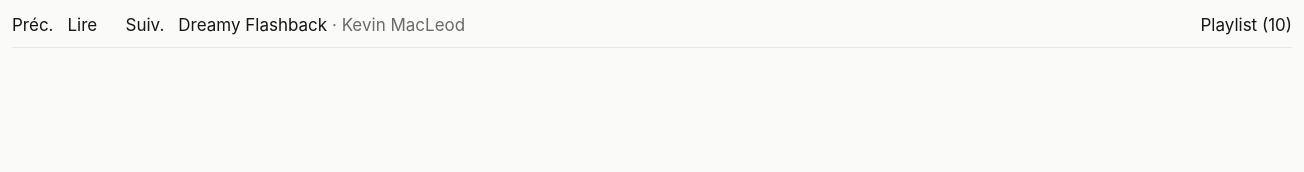
MusicPlayer › met en pause sans recharger la source
This screenshot has width=1304, height=172.
Click the button "Lire" at (90, 26), box [68,12,112,39]
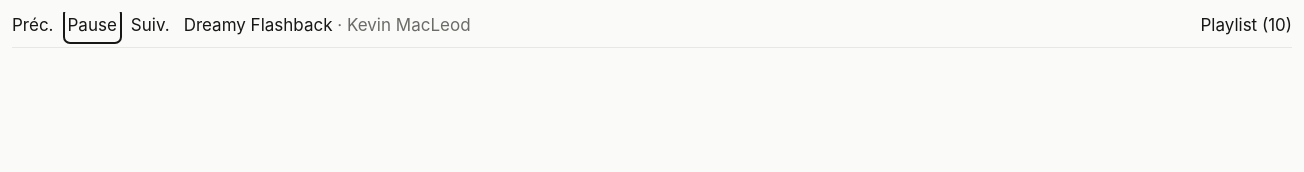
Click the button "Pause" at (92, 26), box [68,12,117,39]
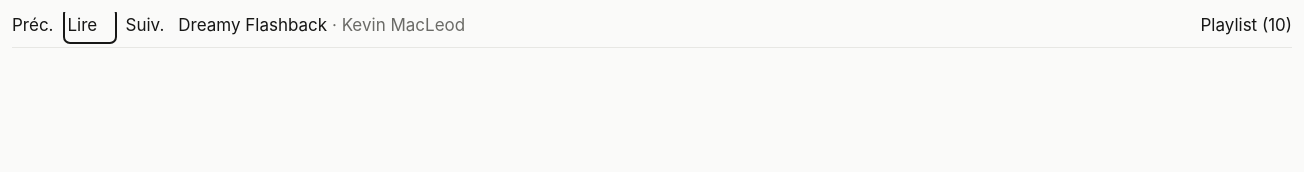
Expected: the button "Lire" is shown, [68,12,112,39]
